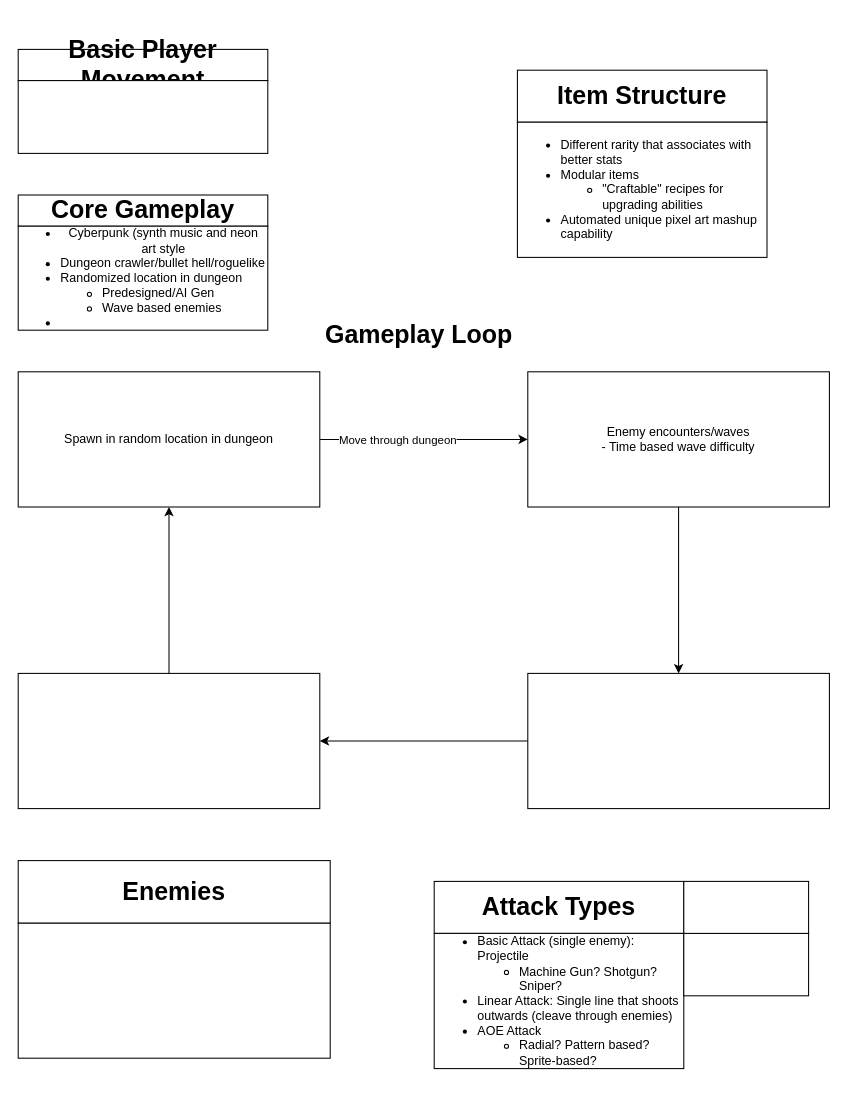
Image size: 848x1098. Some labels were removed from this diagram. The shapes that lost their labels are listed below. From the top down, each one's box as (x1, y1, x2, y2) in pixels, then its label:
(17, 80, 268, 153): WASD movement Dash button Mouse for heading selection Portal Movement mechanic
(17, 672, 320, 809): Loot/Extract
(527, 672, 829, 809): Boss fight
(683, 880, 809, 933): Attack Modifiers
(683, 932, 809, 996): Shape, Size, Cleave, Speed, Amount/Spread, Damage, Regen Time
